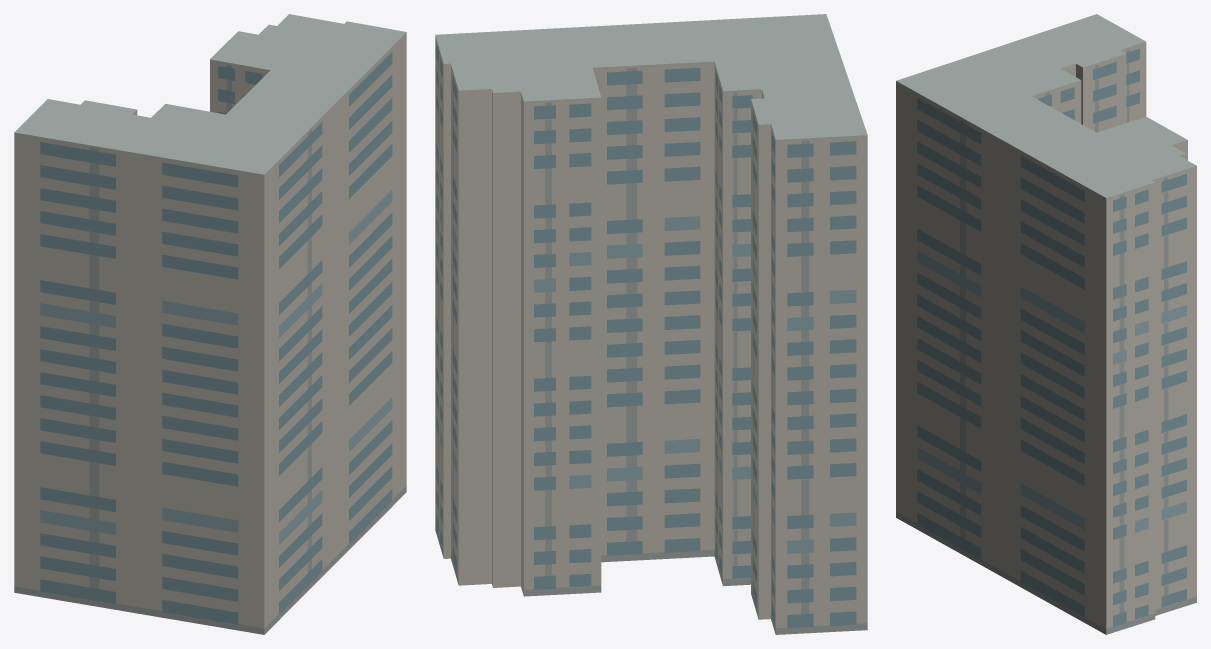
File: residential-218ae94a-b445-45a3-b428-ab582b7c523d.glb
The picture shows the model from 3 angles, left to right: view 1: azimuth 30°, elevation 25°; view 2: azimuth 150°, elevation 25°; view 3: azimuth 270°, elevation 25°; orthographic projection. The views are drawn at different scales.
Visible parts, largest first — view 1: residential-218ae94a-b445-45a3-b428-ab582b7c523d.tmp; view 2: residential-218ae94a-b445-45a3-b428-ab582b7c523d.tmp; view 3: residential-218ae94a-b445-45a3-b428-ab582b7c523d.tmp.
Part boxes in pixels (x1,y1,x2,y2): residential-218ae94a-b445-45a3-b428-ab582b7c523d.tmp: (14, 14, 406, 634); residential-218ae94a-b445-45a3-b428-ab582b7c523d.tmp: (435, 14, 867, 634); residential-218ae94a-b445-45a3-b428-ab582b7c523d.tmp: (896, 14, 1196, 634).
Size of the model in its own units: 50.6 by 56 by 34.96.
